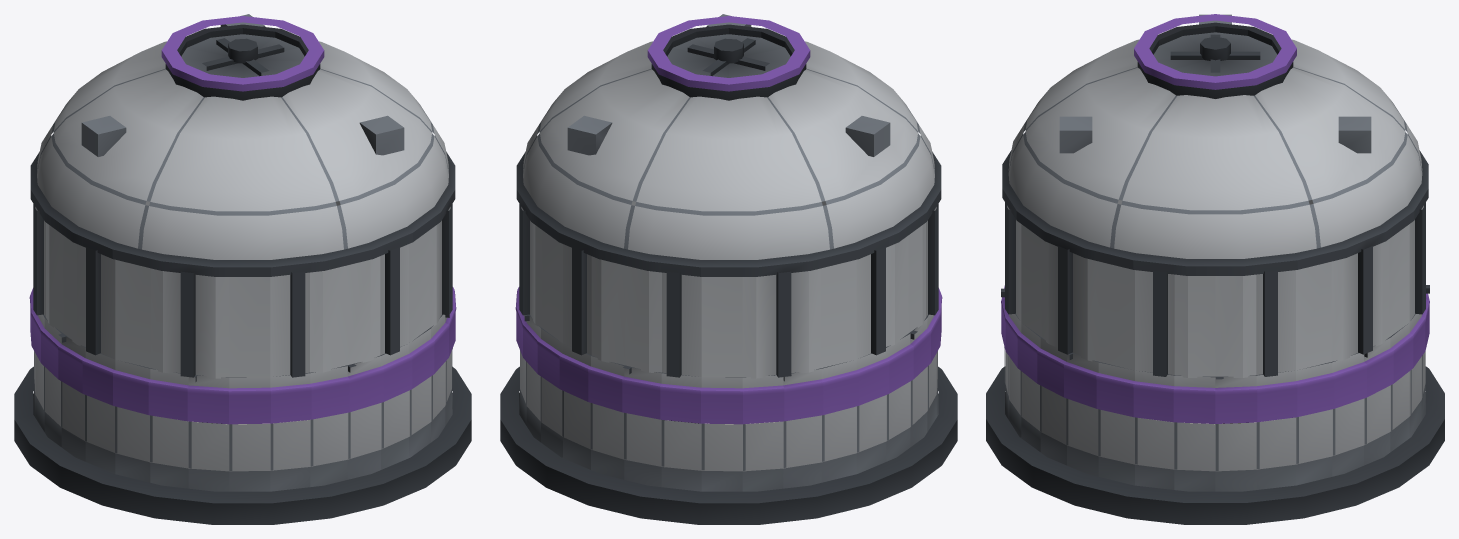
File: junction_far.glb
3 views of the same model, side by side, from view 1: azimuth 30°, elevation 25°; view 2: azimuth 150°, elevation 25°; view 3: azimuth 270°, elevation 25° (orthographic).
Visible parts, largest first — view 1: Roof, Base; view 2: Roof, Base; view 3: Roof, Base.
Boxes of the visible parts, <box> form: Roof: <box>30,14,455,378</box>; Base: <box>14,287,471,524</box>; Roof: <box>516,14,941,378</box>; Base: <box>500,287,957,524</box>; Roof: <box>1002,14,1428,377</box>; Base: <box>986,285,1444,524</box>.
Bounding box in the file's own units: 4.76 × 4.4 × 4.76.
